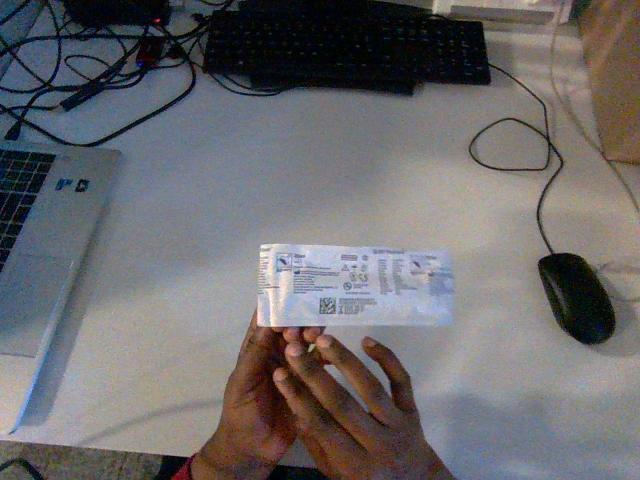syringe: (258, 244, 453, 326)
